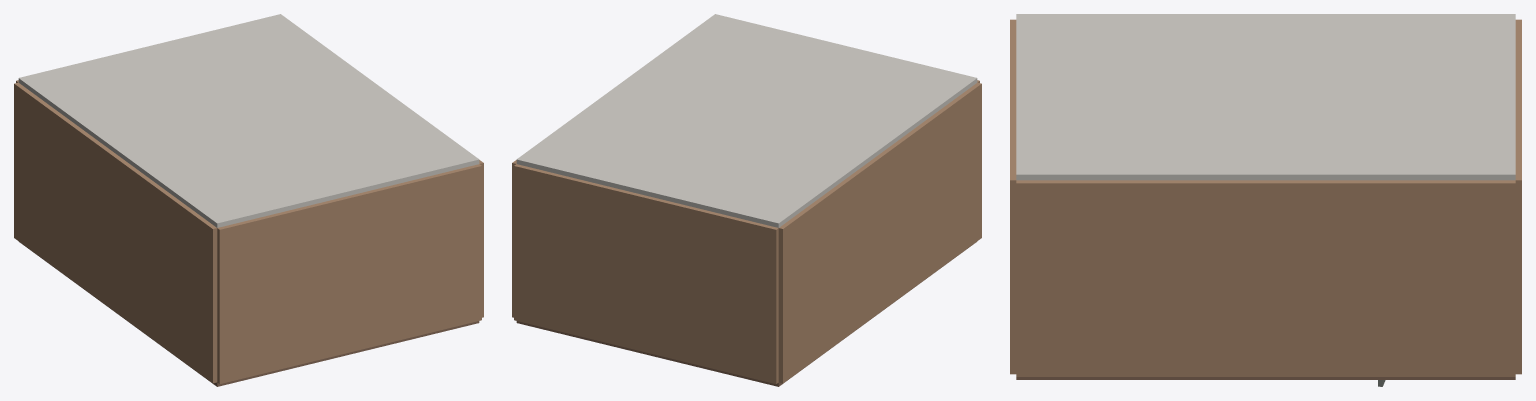
The model's file is punto_dentro.glb.
3 renders of one model, left to right at view 1: azimuth 30°, elevation 25°; view 2: azimuth 150°, elevation 25°; view 3: azimuth 270°, elevation 25°, orthographic. The views are drawn at different scales.
Visible parts, largest first — view 1: O_techo-convcol, O_frente-convcol, O_oeste-convcol, O_piso-convcol; view 2: O_techo-convcol, O_fondo-convcol, O_oeste-convcol, O_piso-convcol; view 3: O_este-convcol, O_techo-convcol, O_fondo-convcol, O_frente-convcol, O_piso-convcol.
Boxes of the visible parts, x1,y1,x2,y2 form: O_techo-convcol: (18,14,479,227); O_frente-convcol: (217,164,481,383); O_oeste-convcol: (14,82,217,383); O_piso-convcol: (19,242,479,386); O_techo-convcol: (516,14,977,227); O_fondo-convcol: (514,164,778,383); O_oeste-convcol: (778,82,981,383); O_piso-convcol: (516,242,976,386); O_este-convcol: (1016,180,1515,376); O_techo-convcol: (1016,14,1515,180); O_fondo-convcol: (1515,19,1521,374); O_frente-convcol: (1010,19,1016,374); O_piso-convcol: (1016,377,1515,379).
Bounding box in the file's own units: 4.96 × 3.13 × 6.46.
